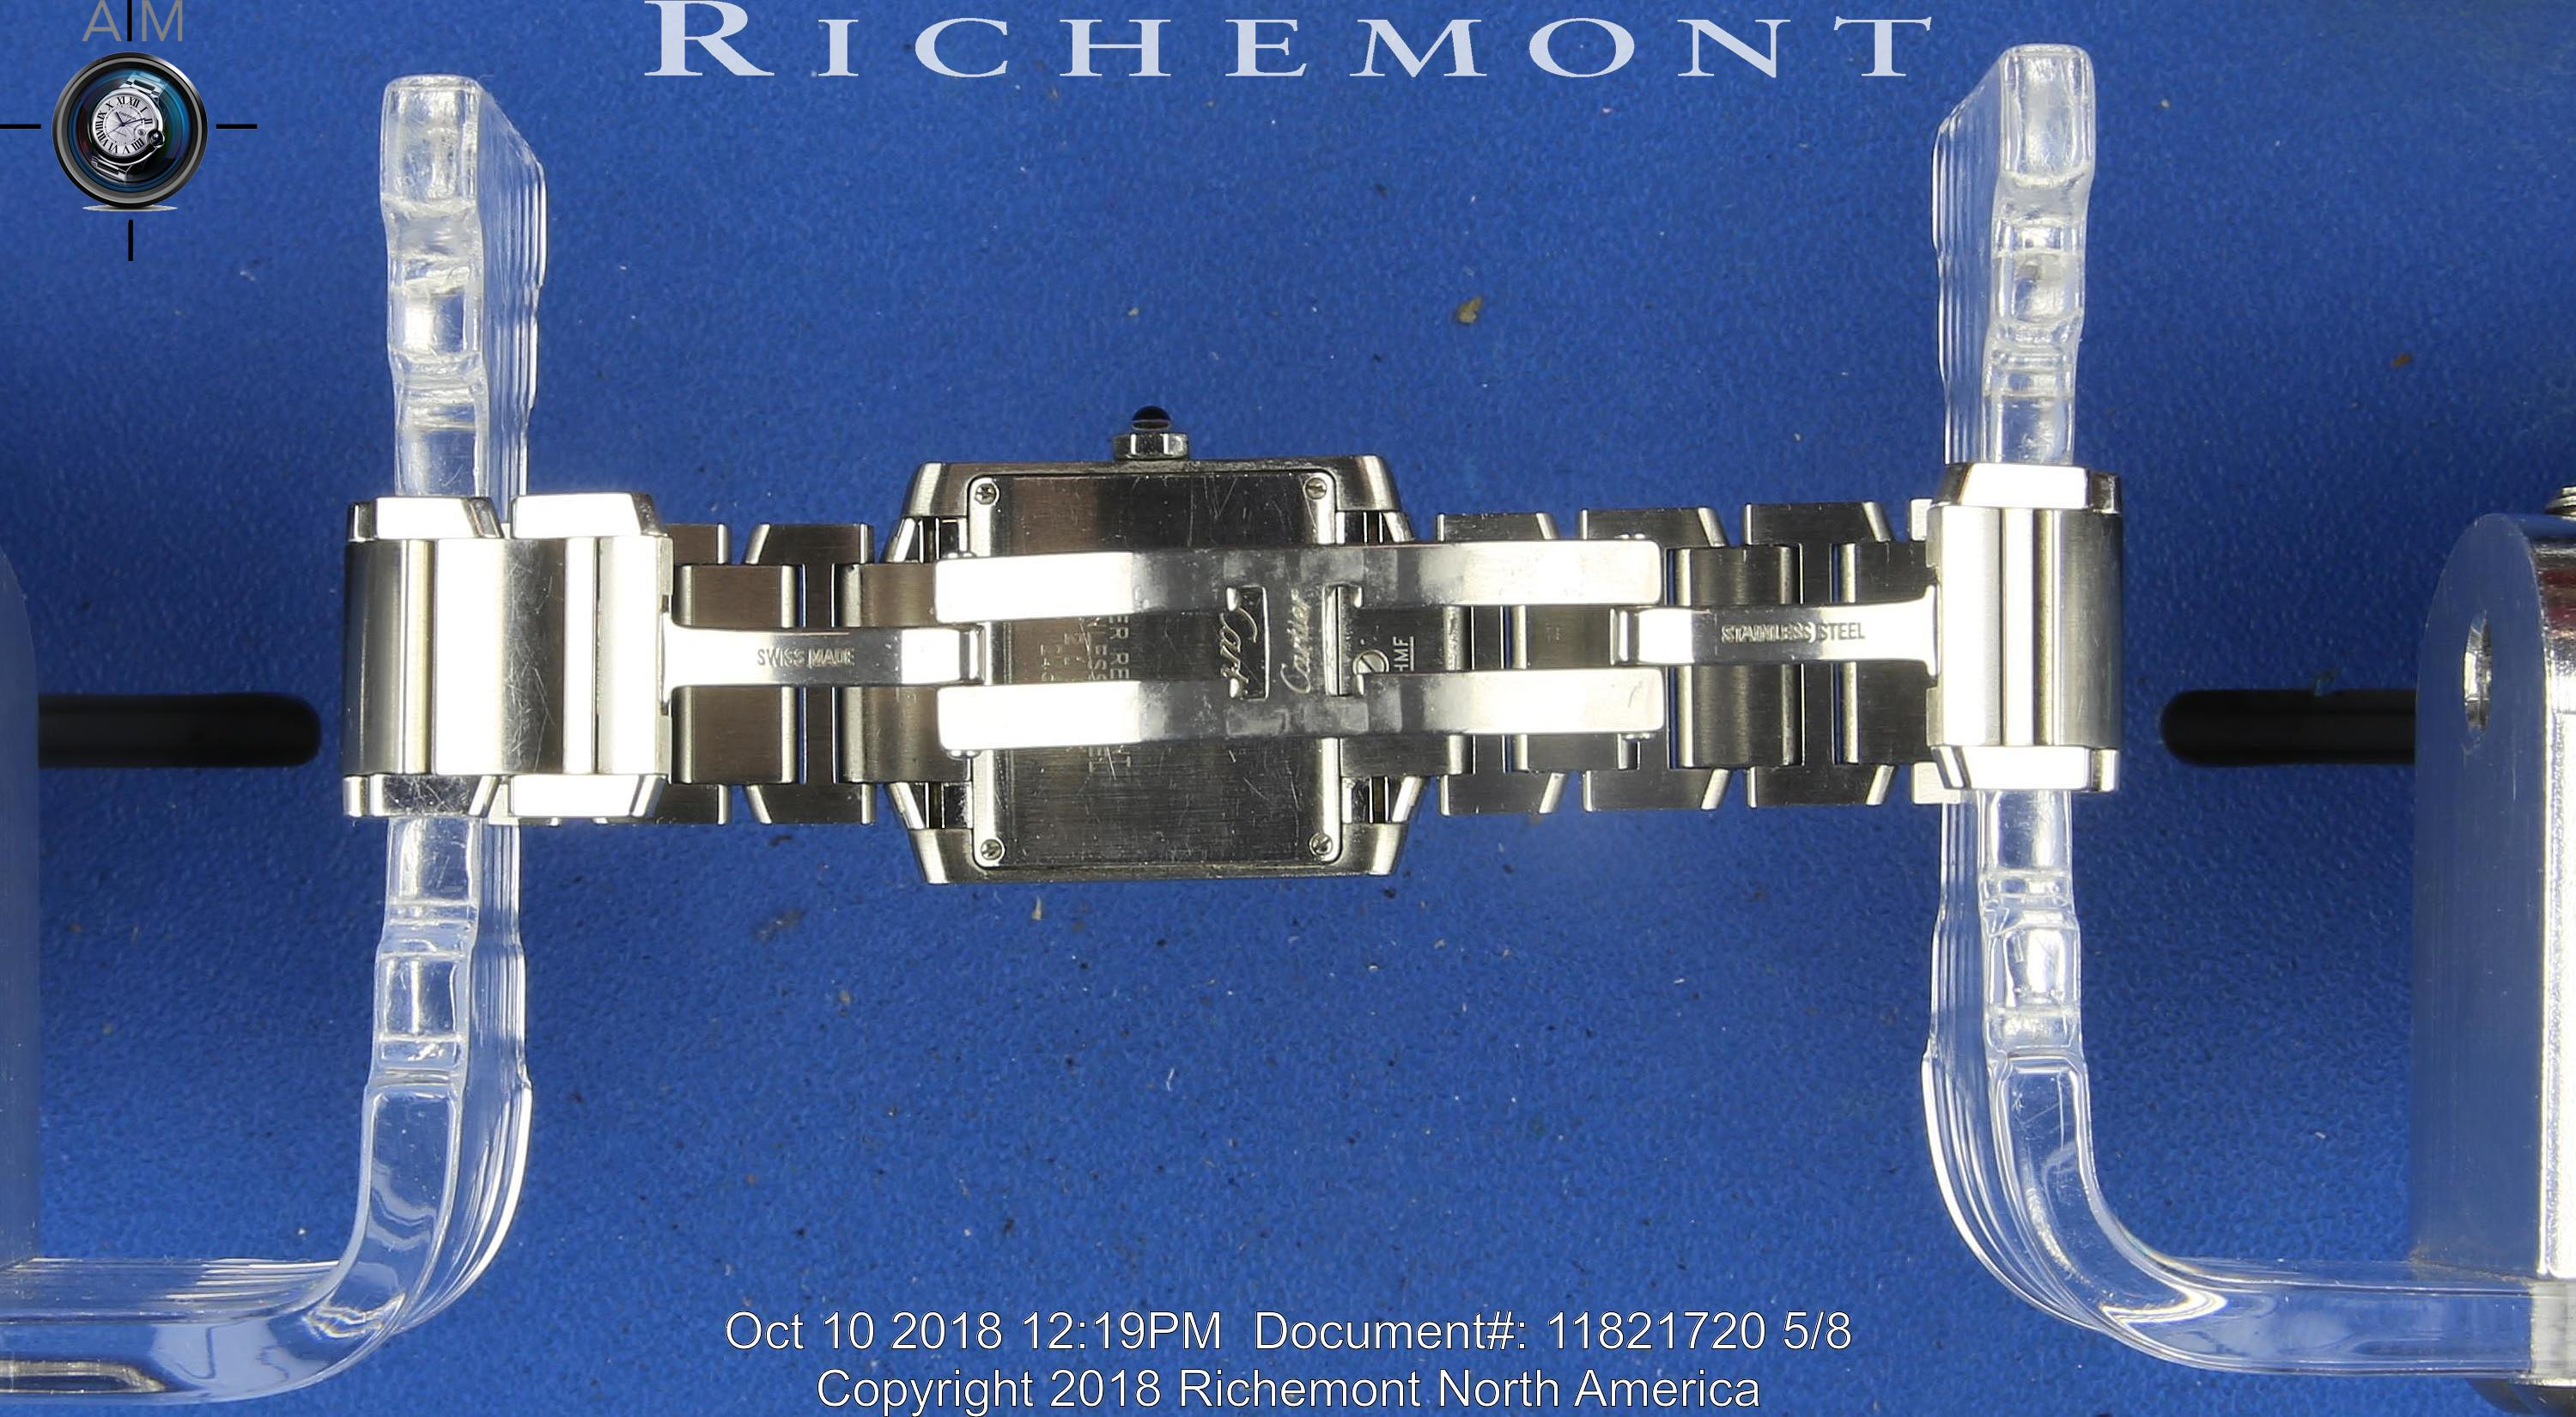watchback: (973, 483, 1345, 876)
